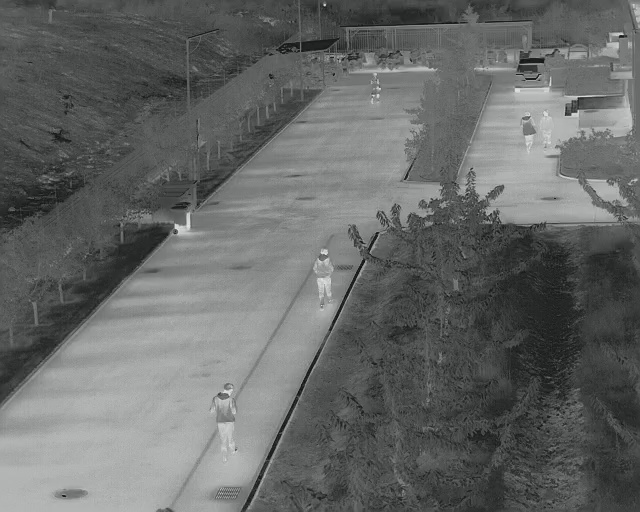person: (209, 381, 241, 462), (310, 243, 335, 313), (518, 109, 537, 155), (538, 107, 555, 149), (368, 70, 384, 105)
vehicle: (510, 58, 555, 96)
